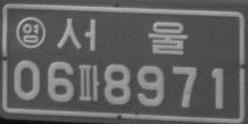0: (12, 58, 40, 101)
1: (204, 66, 232, 109)
6: (46, 60, 74, 103)
7: (171, 64, 198, 108)
8: (103, 62, 131, 105)
9: (136, 64, 165, 108)
서울_D: (56, 16, 188, 55)
영: (15, 16, 46, 49)
파: (77, 63, 100, 103)
